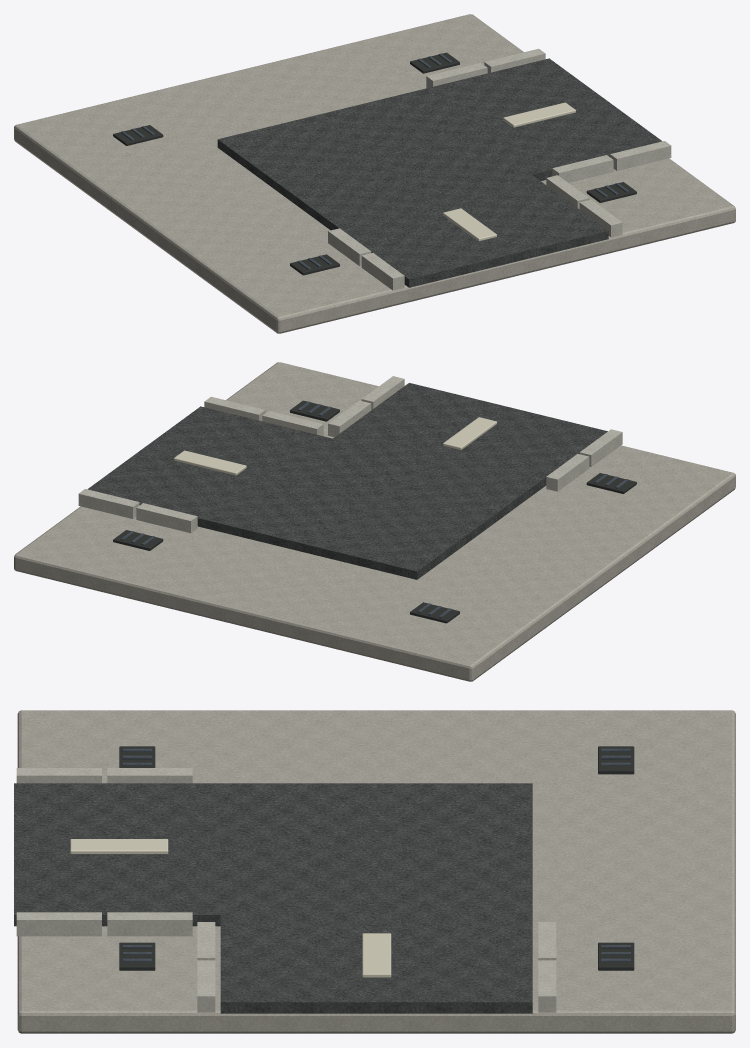
File: ROAD_LOCAL_1x1_CORNER.glb
The picture shows the model from 3 angles, top to bottom: view 1: azimuth 30°, elevation 25°; view 2: azimuth 150°, elevation 25°; view 3: azimuth 270°, elevation 25°; orthographic projection. The views are drawn at different scales.
Parts seen in each view (by area): view 1: ROAD_LOCAL_1x1_CORNER_Visual; view 2: ROAD_LOCAL_1x1_CORNER_Visual; view 3: ROAD_LOCAL_1x1_CORNER_Visual.
Part boxes in pixels (x1=…): ROAD_LOCAL_1x1_CORNER_Visual: x1=14, y1=14, x2=735, y2=333; ROAD_LOCAL_1x1_CORNER_Visual: x1=14, y1=362, x2=735, y2=681; ROAD_LOCAL_1x1_CORNER_Visual: x1=14, y1=710, x2=735, y2=1033.
Size of what is drawn, in the model's own units: 1.99 by 0.12 by 1.99.
Materials: 6 (4 with a texture image).
